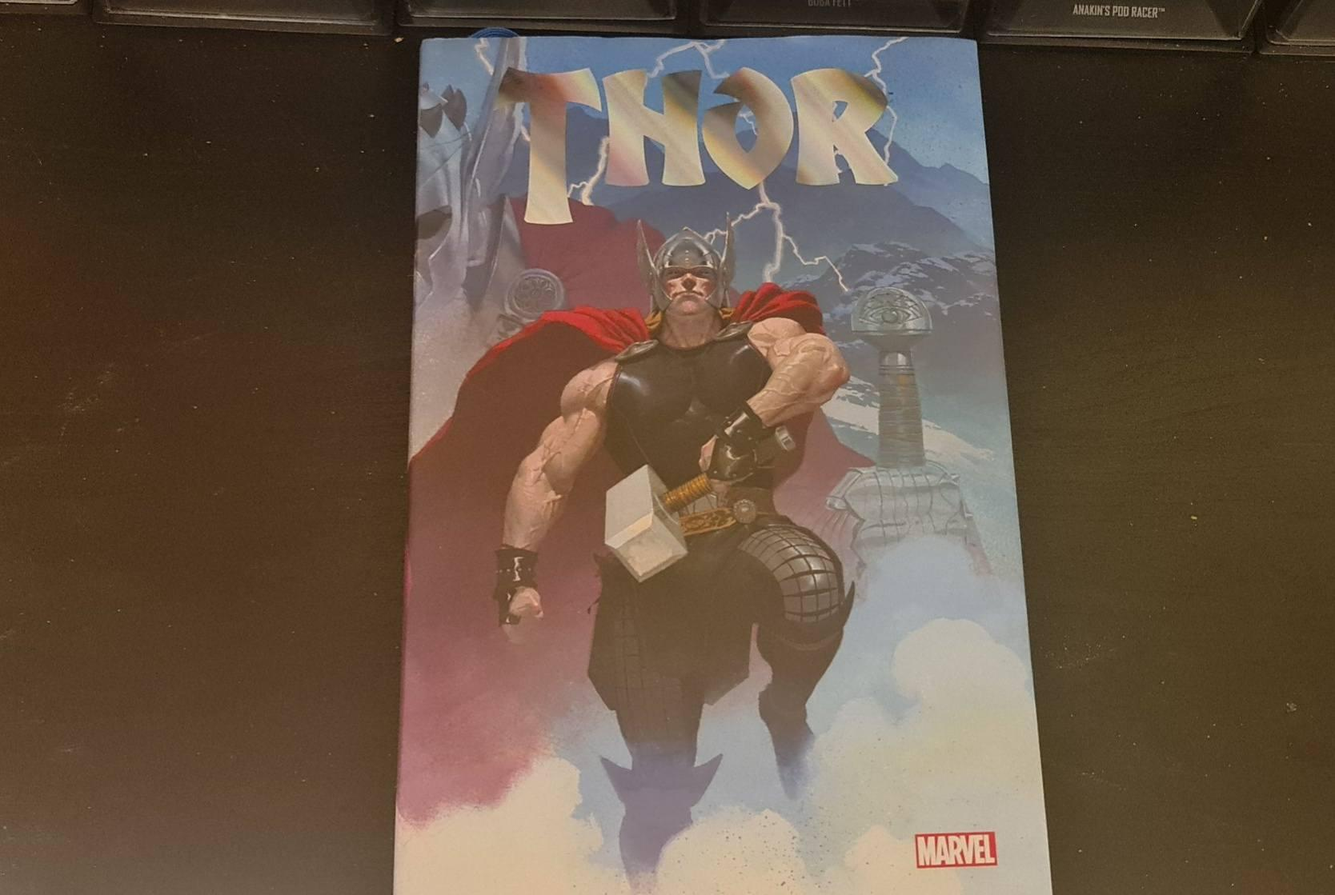comic: (396, 36, 1049, 894)
